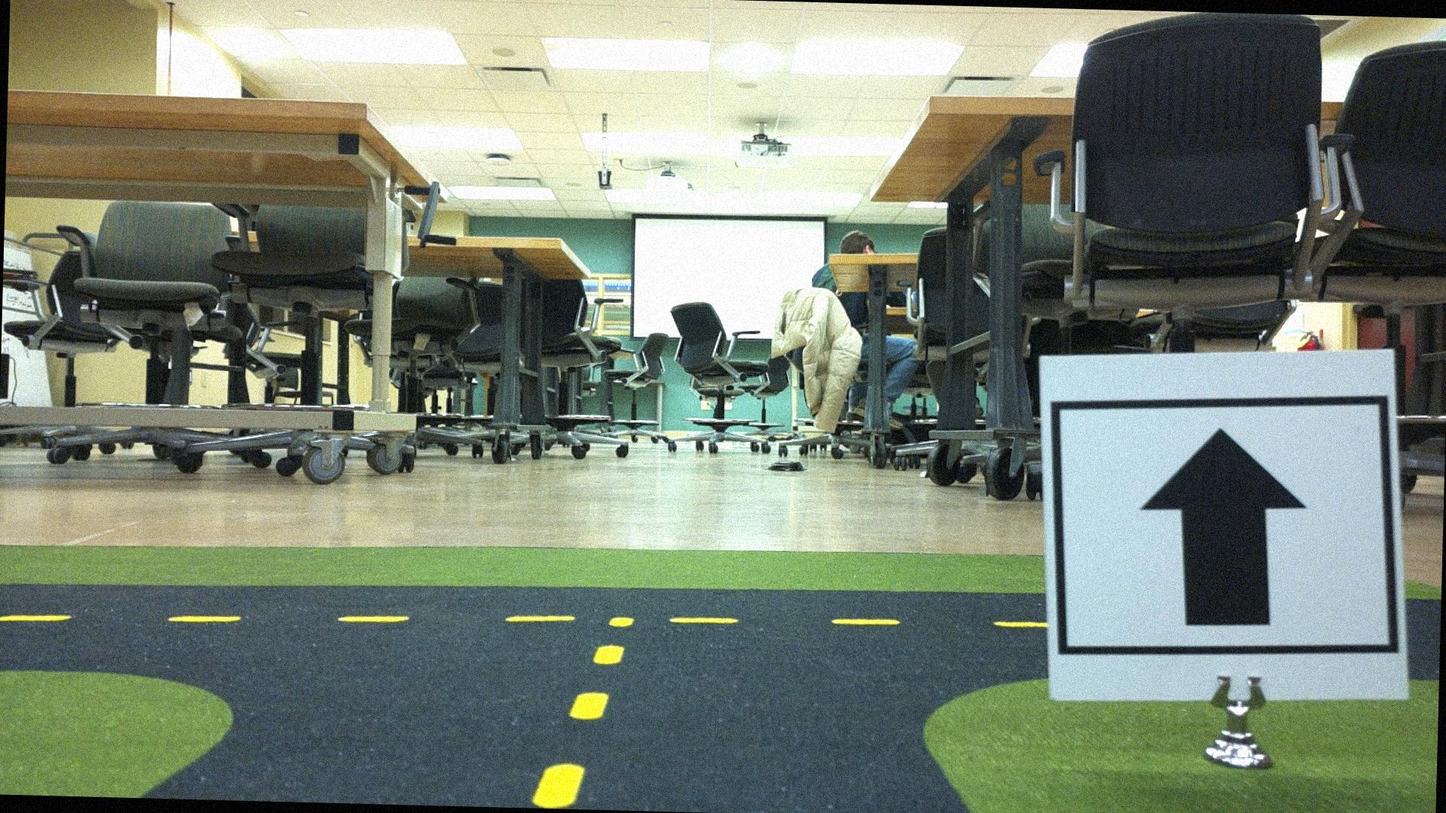gostraight: (1048, 375, 1388, 687)
yellowline: (0, 592, 1045, 647), (534, 613, 630, 810)
